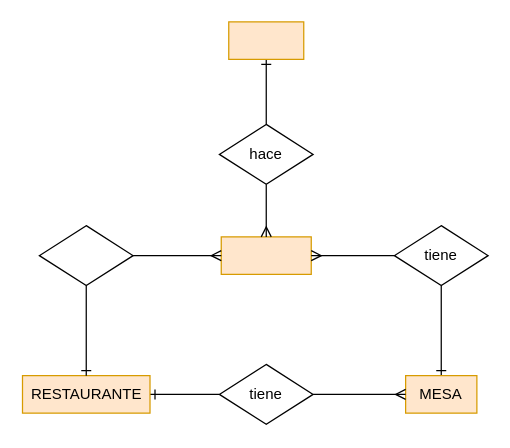
Some shapes in this 510 by 448 pixel diagram are drawn without their labels. Here are the shapes that lost their labels. From the top down, the centre of each, then its label:
At point 266,40: "CLIENTE".
At point 85,255: "a traves".
At point 265,255: "RESERVA".
